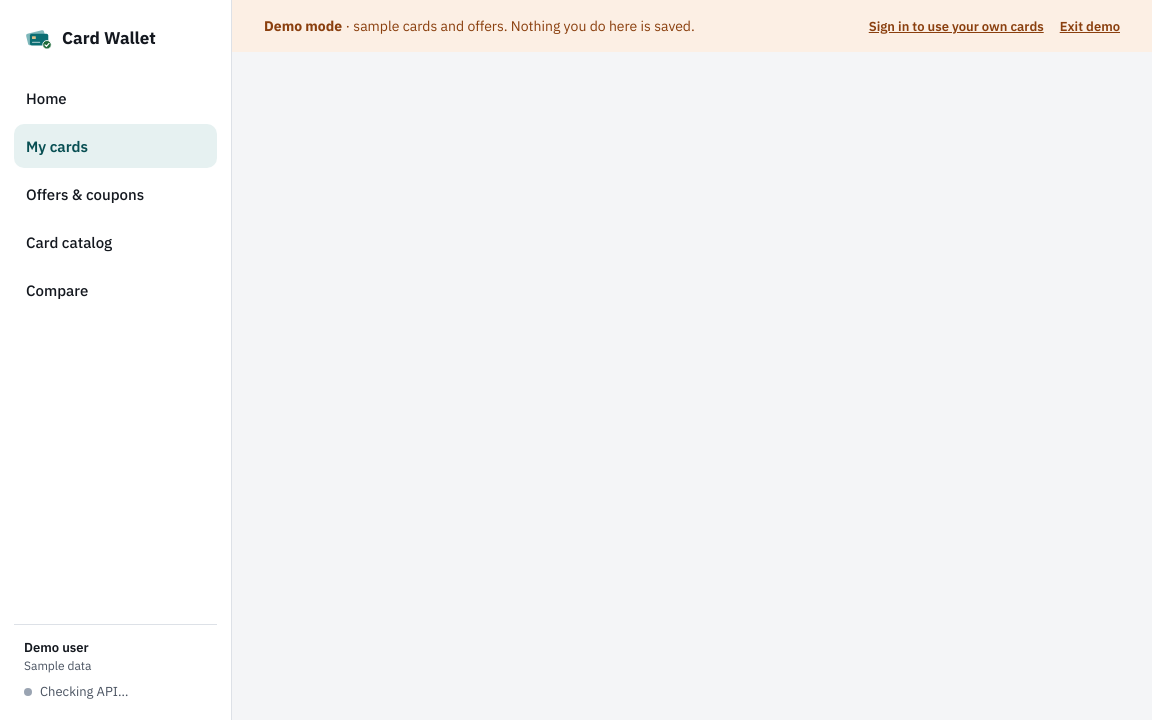
Test: demo mode › exiting the demo returns to the sign-in prompt
The image size is (1152, 720).
Click the button "Exit demo". click: (1090, 26)
box: [1060,10,1120,42]
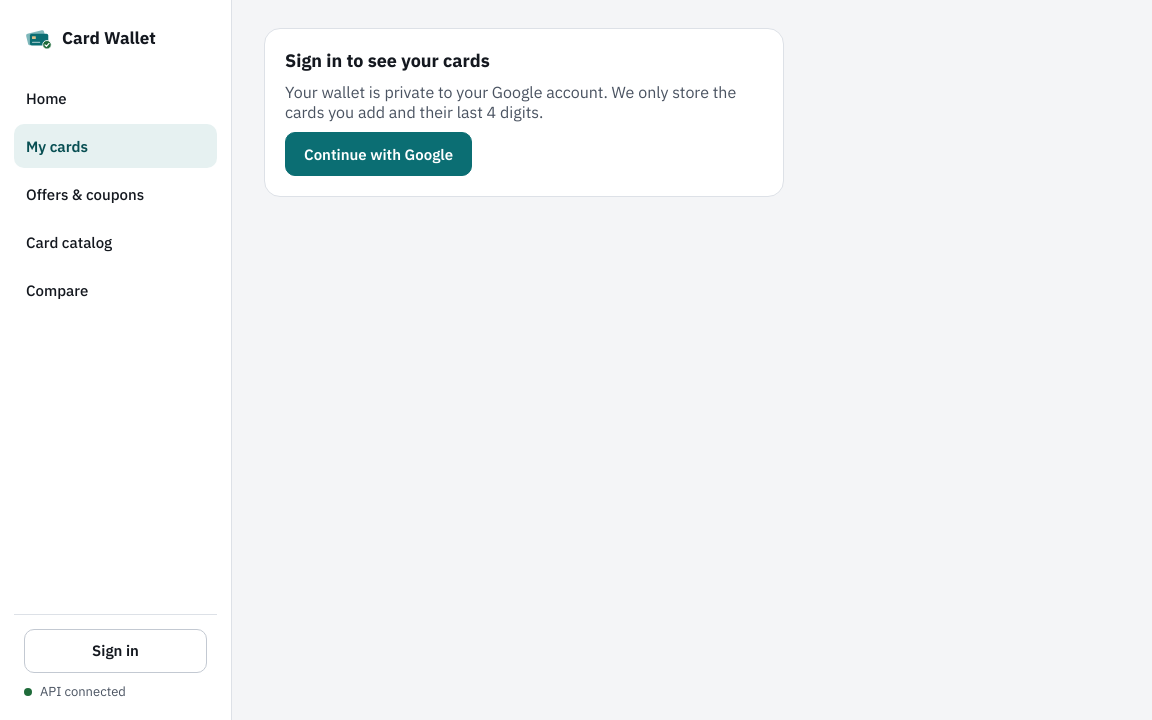
Check: the text "Sign in to see your cards" is shown, box [285,49,490,72]
